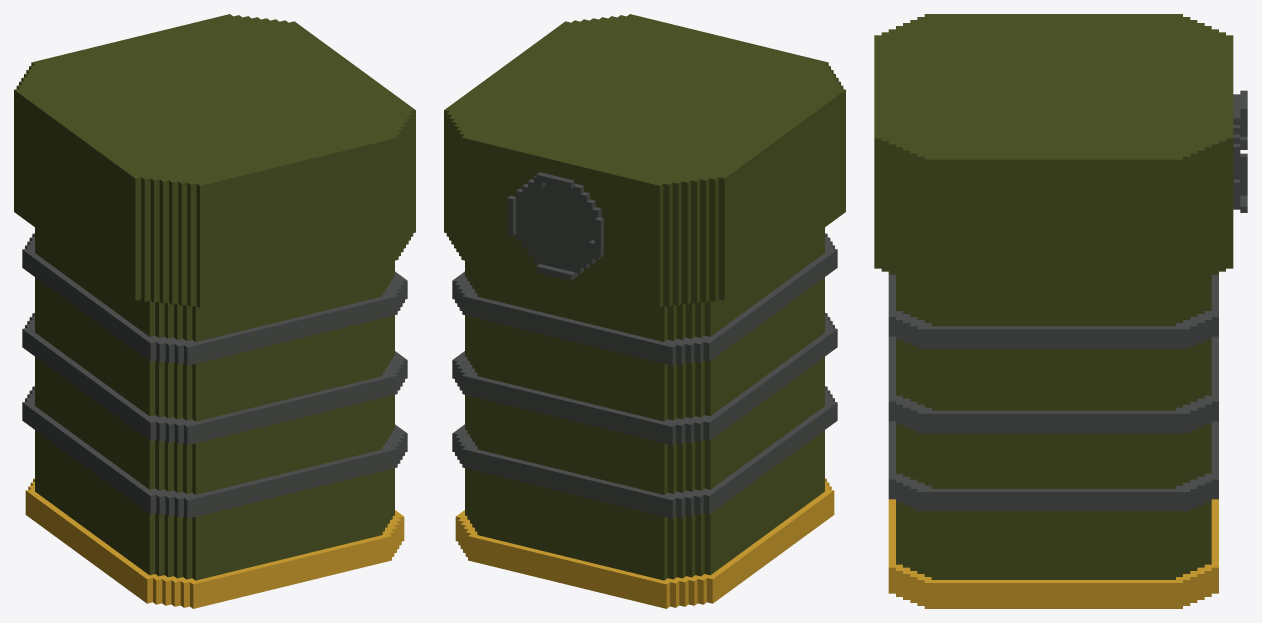
File: armor_trooper_worn_fore.glb
The picture shows the model from 3 angles, left to right: view 1: azimuth 30°, elevation 25°; view 2: azimuth 150°, elevation 25°; view 3: azimuth 270°, elevation 25°; orthographic projection. The views are drawn at different scales.
Parts seen in each view (by area): view 1: armor_trooper_worn_fore:compound; view 2: armor_trooper_worn_fore:compound; view 3: armor_trooper_worn_fore:compound.
Boxes of the visible parts, x1=… form: armor_trooper_worn_fore:compound: x1=14, y1=14, x2=415, y2=608; armor_trooper_worn_fore:compound: x1=444, y1=14, x2=845, y2=608; armor_trooper_worn_fore:compound: x1=874, y1=14, x2=1247, y2=608.
Size of the model in its own units: 0.192 by 0.28 by 0.208.
